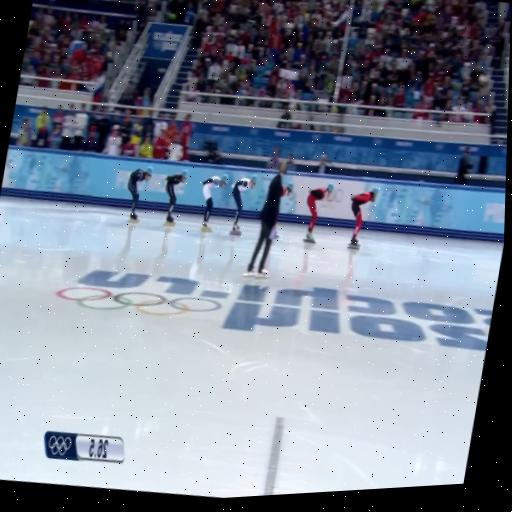Skater: (303, 183, 333, 243), (347, 189, 377, 249), (200, 174, 227, 231), (230, 176, 256, 235), (126, 167, 152, 223), (164, 170, 187, 226), (281, 182, 293, 197)
